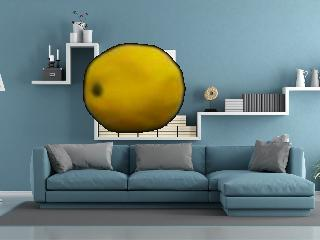lemon: (84, 46, 182, 134)
